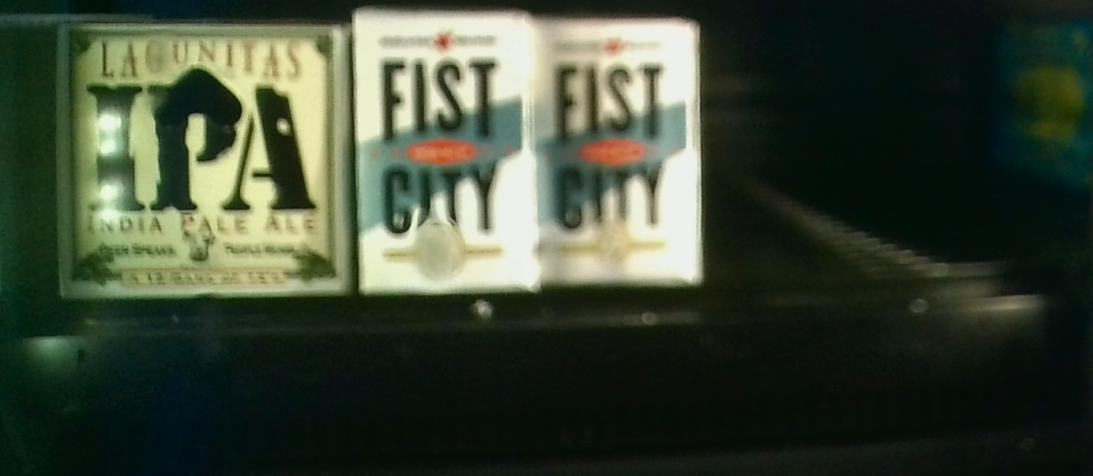bottle: (53, 19, 355, 294), (353, 7, 542, 289), (544, 14, 702, 286)
